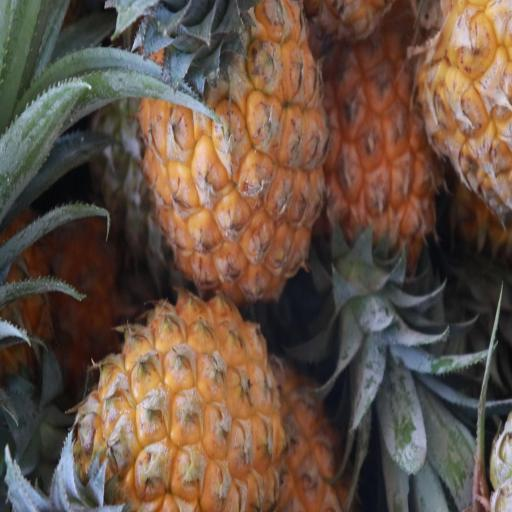Pineapple - v8 v1: (149, 15, 326, 291), (71, 297, 288, 512), (316, 16, 445, 264)
